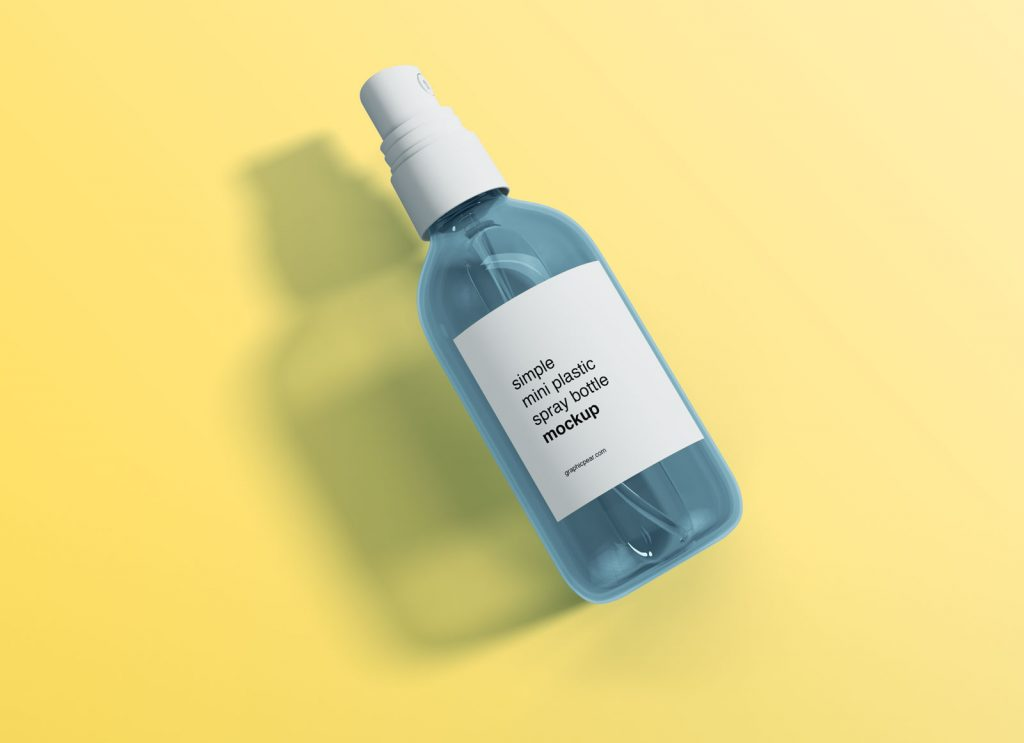Medicine: (354, 50, 744, 620)
